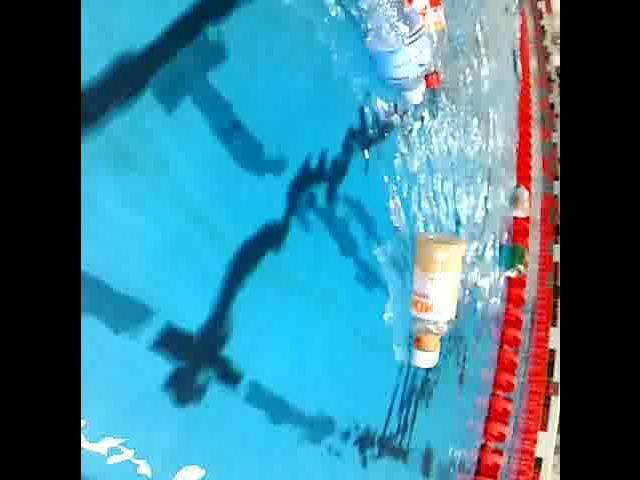Bottle: (304, 0, 436, 120), (396, 220, 468, 376), (383, 0, 450, 96), (507, 180, 531, 226)
Can: (501, 240, 527, 288)
